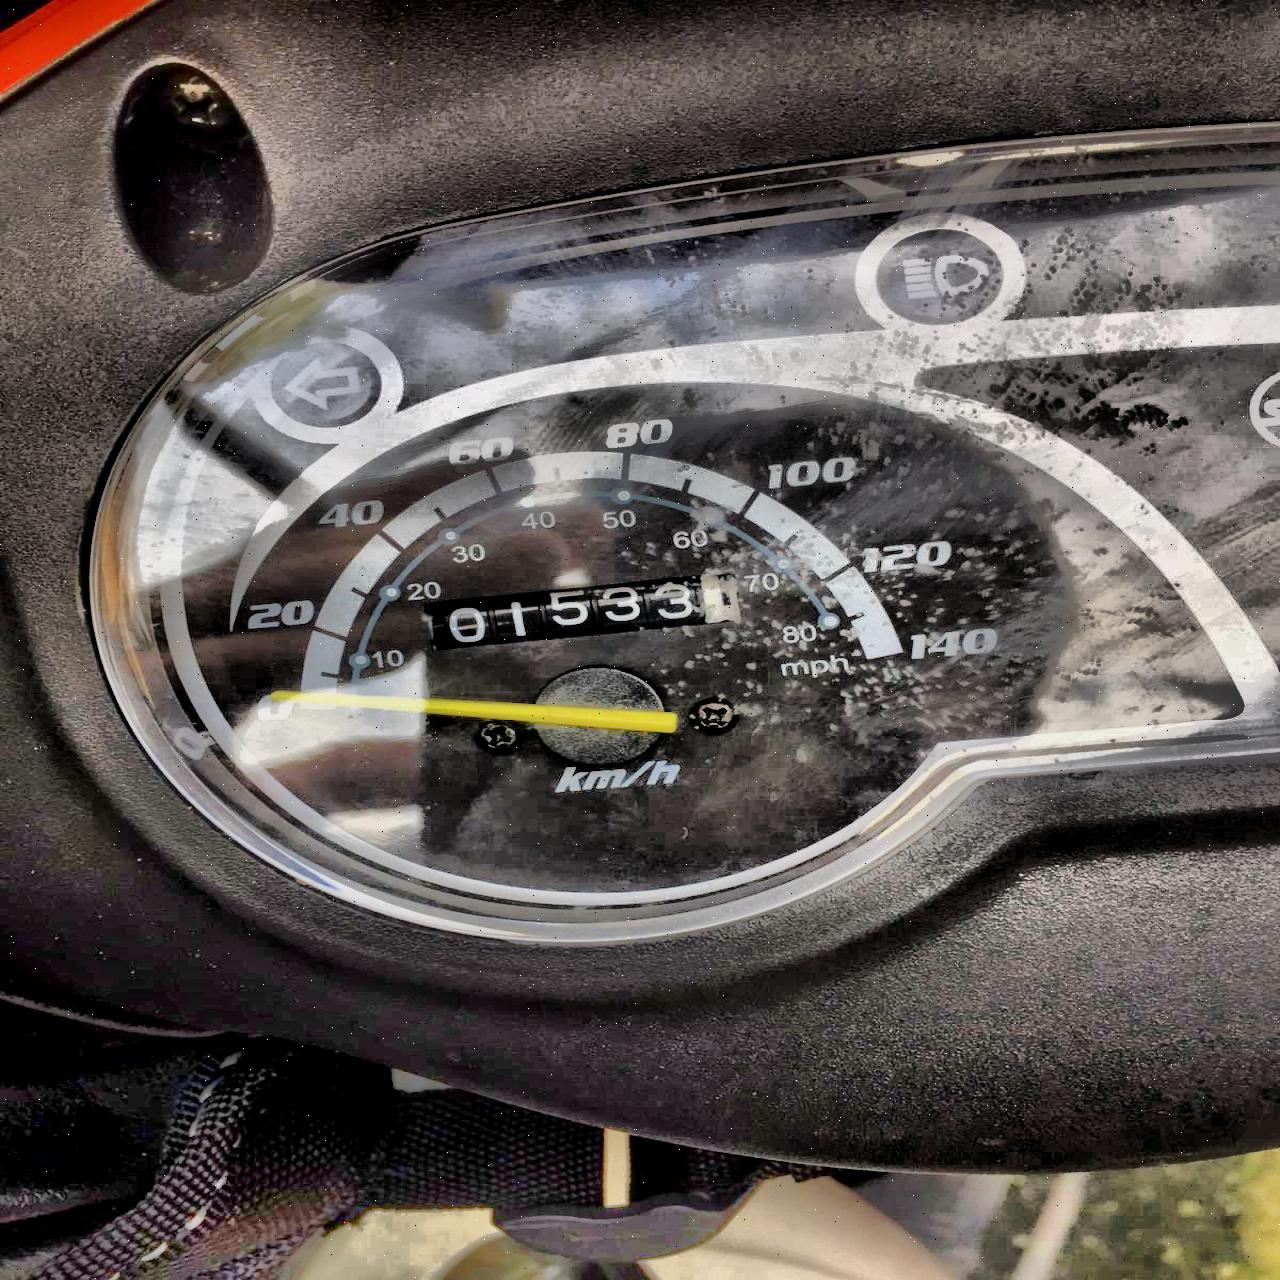0: (444, 604, 486, 644), (423, 580, 440, 599)
1: (502, 597, 527, 639), (710, 573, 737, 608)
3: (651, 580, 695, 619), (599, 584, 640, 621)
5: (547, 587, 588, 626)
odometer: (418, 570, 747, 653)
